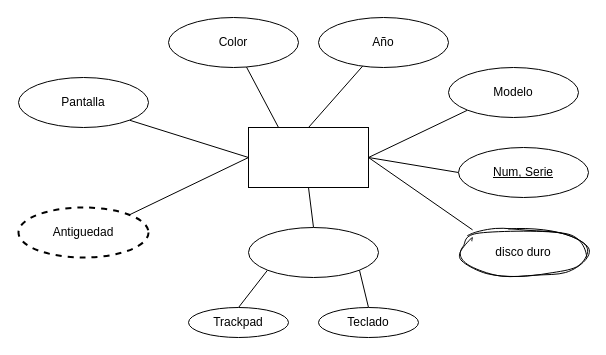
This 606x355 diagram has some shape labels left out. Each missing label, with the centre of its shape:
"Laptop" belongs at [308,157].
"Metodo de entrada" belongs at [313,252].
